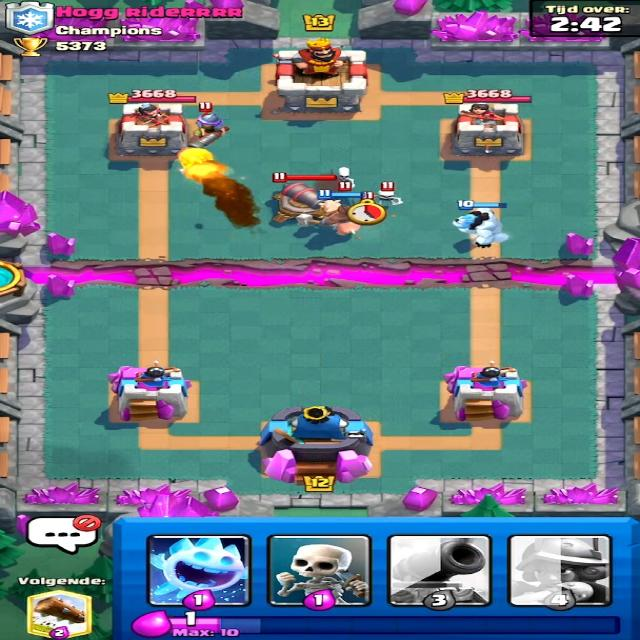Cannon_Card: (387, 535, 484, 610)
Enemy_Cannon_Troop: (262, 178, 325, 222)
Enemy_Musketeer_Troop: (184, 108, 241, 149)
Fireball_Troop: (174, 147, 228, 180)
Ice_Golem_Troop: (448, 208, 518, 248)
Ice_Spirit_Card: (148, 535, 247, 607)
Musketeer_Card: (507, 534, 607, 607)
Skeleton_Card: (273, 533, 376, 607)
